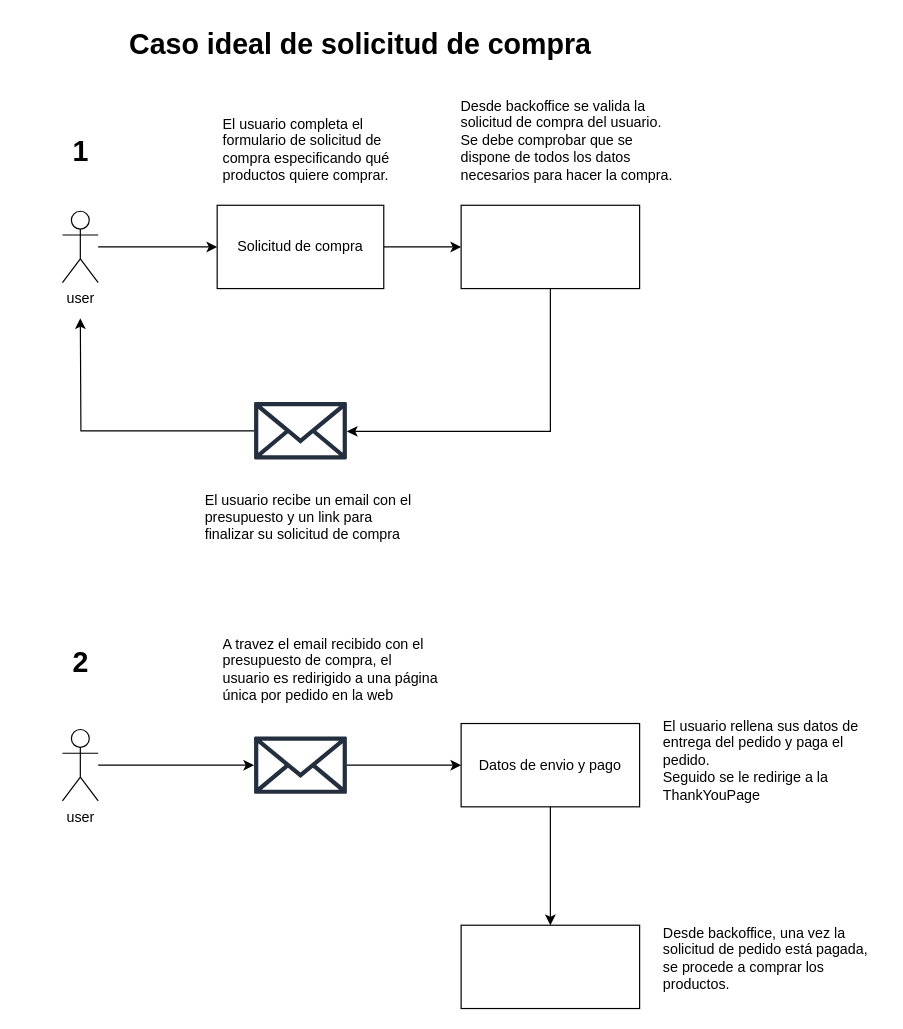
Some shapes in this 903 by 1029 pixel diagram are drawn without their labels. The shapes that lost their labels are listed below. From the top down, each one's centre as x and y in pixels, then its label:
At (x=550, y=246): "Validacion de la solicitud de compra".
At (x=550, y=966): "Compra del producto".
